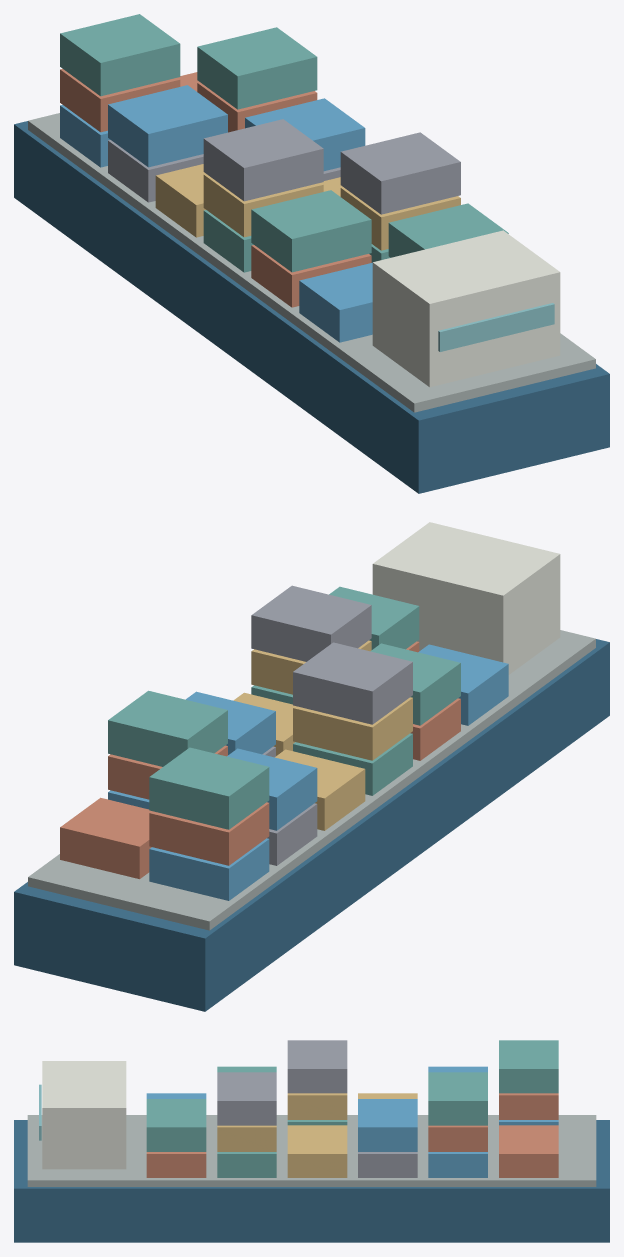
The model's file is cargo_ship.glb.
3 views of the same model, one above another, from view 1: azimuth 30°, elevation 25°; view 2: azimuth 150°, elevation 25°; view 3: azimuth 270°, elevation 25° (orthographic). The views are drawn at different scales.
Parts seen in each view (by area): view 1: CARGO_SHIP_HULL, CARGO_SHIP_BRIDGE, CARGO_SHIP_DECK, SHIP_BOX_0_2_2, SHIP_BOX_1_4_2, SHIP_BOX_0_1_1, SHIP_BOX_1_1_2, SHIP_BOX_0_5_2, SHIP_BOX_0_4_1, SHIP_BOX_0_0_0, SHIP_BOX_1_3_1, SHIP_BOX_1_0_1 (+10 smaller); view 2: CARGO_SHIP_HULL, CARGO_SHIP_BRIDGE, CARGO_SHIP_DECK, SHIP_BOX_0_5_2, SHIP_BOX_0_2_2, SHIP_BOX_1_1_2, SHIP_BOX_1_4_2, SHIP_BOX_1_5_0, SHIP_BOX_0_5_1, SHIP_BOX_0_2_1, SHIP_BOX_0_5_0, SHIP_BOX_0_4_1 (+11 smaller); view 3: CARGO_SHIP_HULL, CARGO_SHIP_DECK, CARGO_SHIP_BRIDGE, SHIP_BOX_0_2_2, SHIP_BOX_0_5_2, SHIP_BOX_1_1_2, SHIP_BOX_1_4_2, SHIP_BOX_1_0_1, SHIP_BOX_1_2_0, SHIP_BOX_1_3_1, SHIP_BOX_1_5_0, SHIP_BOX_0_2_1 (+13 smaller).
Part boxes in pixels (left/top/right/bottom): CARGO_SHIP_HULL: left=14, top=121, right=609, bottom=493; CARGO_SHIP_BRIDGE: left=372, top=230, right=560, bottom=387; CARGO_SHIP_DECK: left=28, top=113, right=595, bottom=412; SHIP_BOX_0_2_2: left=203, top=119, right=323, bottom=201; SHIP_BOX_1_4_2: left=197, top=27, right=317, bottom=109; SHIP_BOX_0_1_1: left=251, top=190, right=371, bottom=272; SHIP_BOX_1_1_2: left=340, top=132, right=460, bottom=214; SHIP_BOX_0_5_2: left=60, top=14, right=180, bottom=96; SHIP_BOX_0_4_1: left=108, top=85, right=227, bottom=167; SHIP_BOX_0_0_0: left=299, top=262, right=372, bottom=342; SHIP_BOX_1_3_1: left=245, top=98, right=365, bottom=171; SHIP_BOX_1_0_1: left=388, top=203, right=508, bottom=257; CARGO_SHIP_HULL: left=14, top=639, right=609, bottom=1011; CARGO_SHIP_BRIDGE: left=372, top=522, right=560, bottom=674; CARGO_SHIP_DECK: left=28, top=630, right=595, bottom=930; SHIP_BOX_0_5_2: left=149, top=747, right=269, bottom=829; SHIP_BOX_0_2_2: left=293, top=642, right=412, bottom=724; SHIP_BOX_1_1_2: left=251, top=585, right=371, bottom=661; SHIP_BOX_1_4_2: left=108, top=690, right=227, bottom=766; SHIP_BOX_1_5_0: left=60, top=797, right=151, bottom=879; SHIP_BOX_0_5_1: left=149, top=802, right=269, bottom=865; SHIP_BOX_0_2_1: left=293, top=697, right=412, bottom=760; SHIP_BOX_0_5_0: left=149, top=838, right=269, bottom=900; SHIP_BOX_0_4_1: left=227, top=748, right=317, bottom=830; CARGO_SHIP_HULL: left=14, top=1120, right=609, bottom=1242; CARGO_SHIP_DECK: left=27, top=1115, right=596, bottom=1186; CARGO_SHIP_BRIDGE: left=42, top=1061, right=126, bottom=1169; SHIP_BOX_0_2_2: left=287, top=1040, right=347, bottom=1093; SHIP_BOX_0_5_2: left=499, top=1040, right=558, bottom=1093; SHIP_BOX_1_1_2: left=217, top=1072, right=276, bottom=1125; SHIP_BOX_1_4_2: left=428, top=1072, right=487, bottom=1125; SHIP_BOX_1_0_1: left=146, top=1099, right=206, bottom=1151; SHIP_BOX_1_2_0: left=287, top=1125, right=347, bottom=1177; SHIP_BOX_1_3_1: left=358, top=1099, right=417, bottom=1151; SHIP_BOX_1_5_0: left=499, top=1125, right=558, bottom=1177; SHIP_BOX_0_2_1: left=287, top=1093, right=347, bottom=1119.
Bounding box in the file's own units: 6 × 5.61 × 22.
